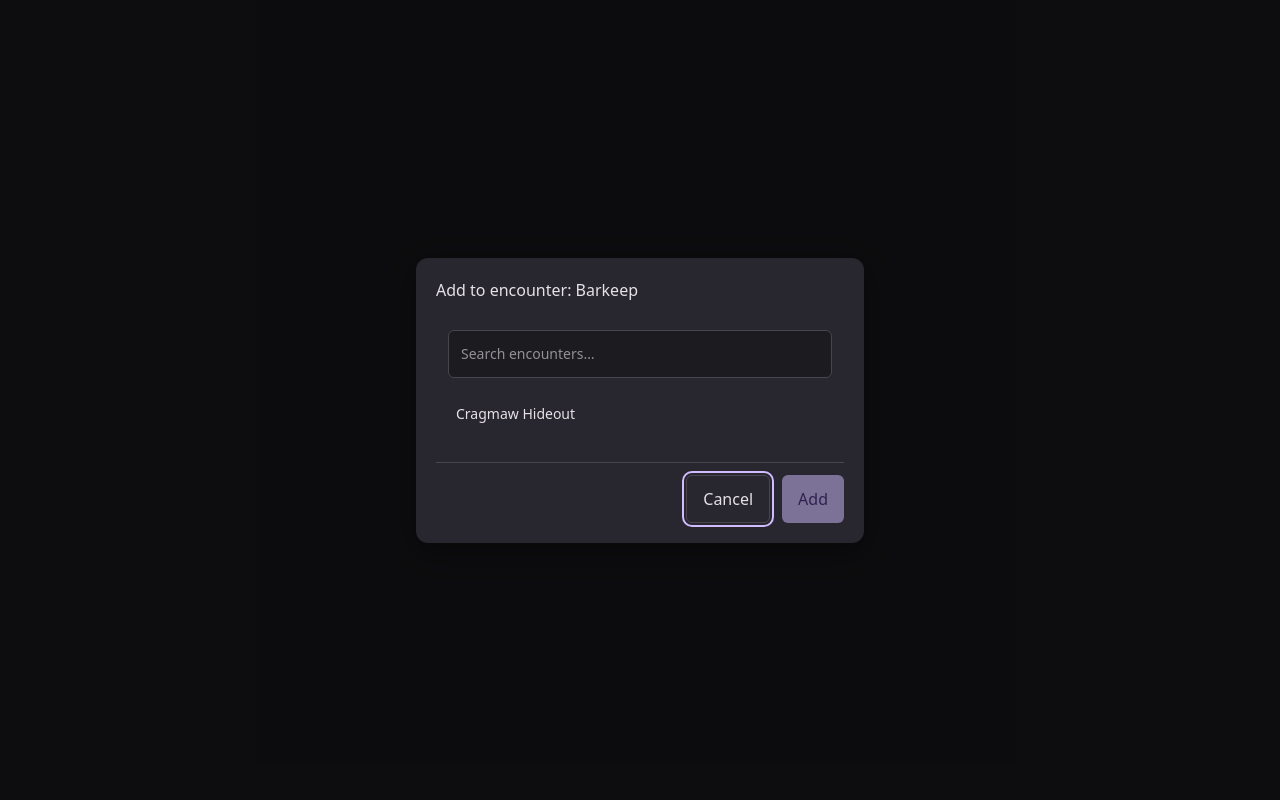
Scenario: AddToEncounterDialog › a rejected updateEncounter shows the inline status failure and keeps the dialog open
Check: the text "Cragmaw Hideout" is shown, box [456,404,575,424]
Click the button "Cragmaw Hideout" at {"x": 516, "y": 413}, box [444,390,836,438]
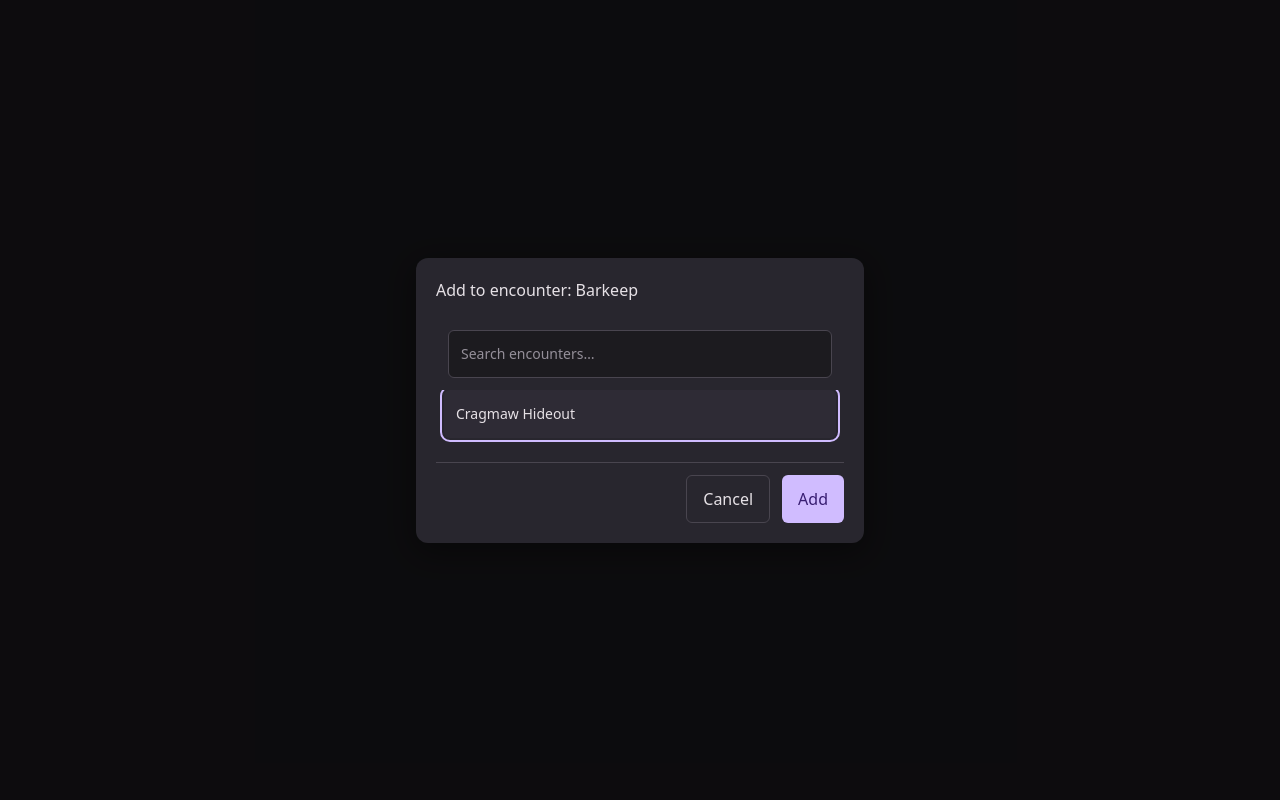
Click the button "Add" at {"x": 813, "y": 498}, box [782,474,844,522]
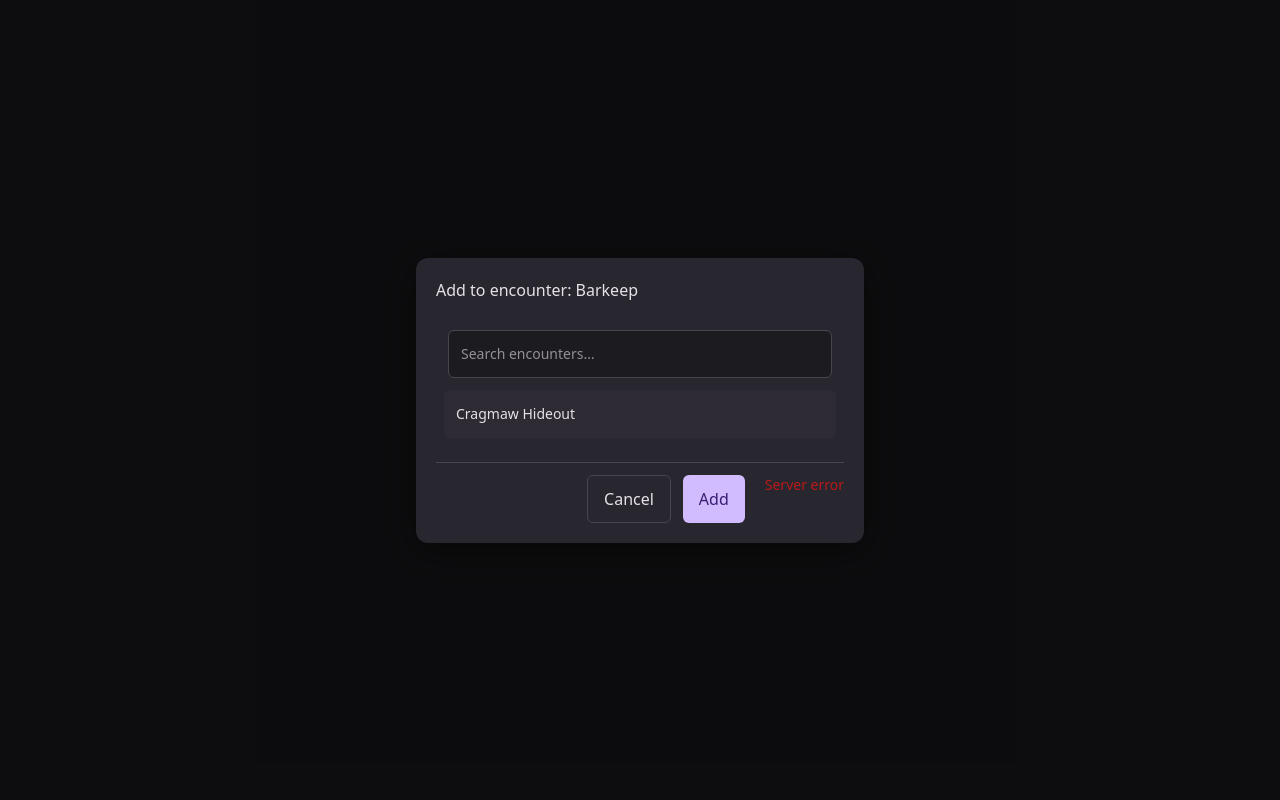
Check: the message reads "Server error", box [765,474,844,494]
